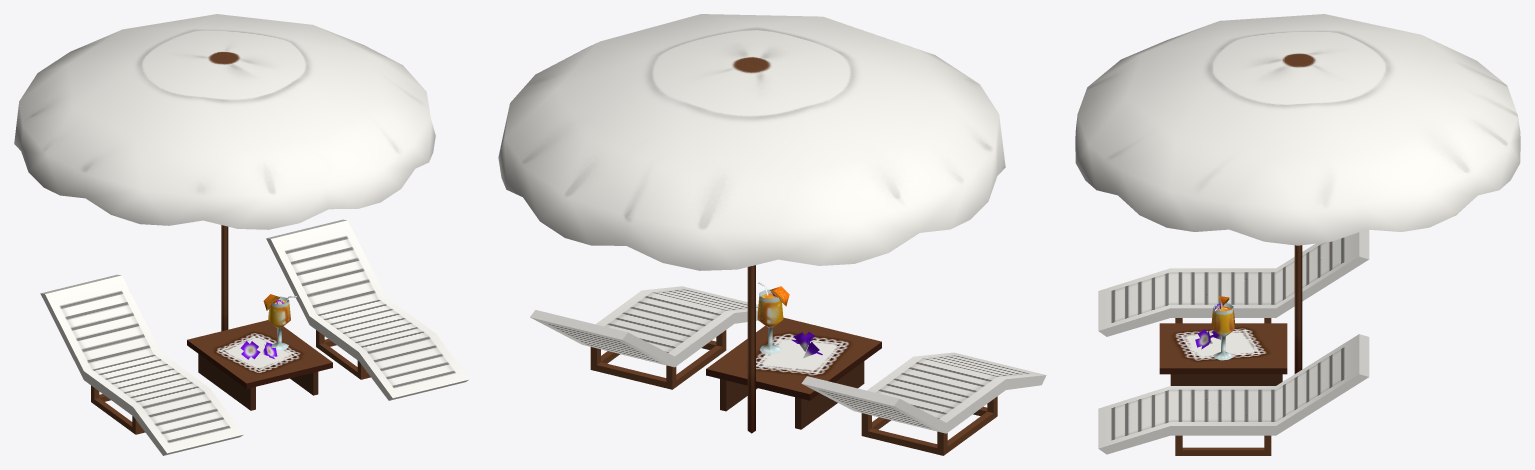
The model's file is beech.fbx.
3 renders of one model, left to right at view 1: azimuth 30°, elevation 25°; view 2: azimuth 150°, elevation 25°; view 3: azimuth 270°, elevation 25°, orthographic. The views are drawn at different scales.
Parts seen in each view (by area): view 1: pSphere2; view 2: pSphere2; view 3: pSphere2.
Boxes of the visible parts, x1=… form: pSphere2: x1=14, y1=14, x2=469, y2=455; pSphere2: x1=498, y1=14, x2=1046, y2=455; pSphere2: x1=1075, y1=14, x2=1520, y2=455.
Size of the model in its own units: 33.05 by 26.67 by 32.89.
Materials: 1 (1 with a texture image).
